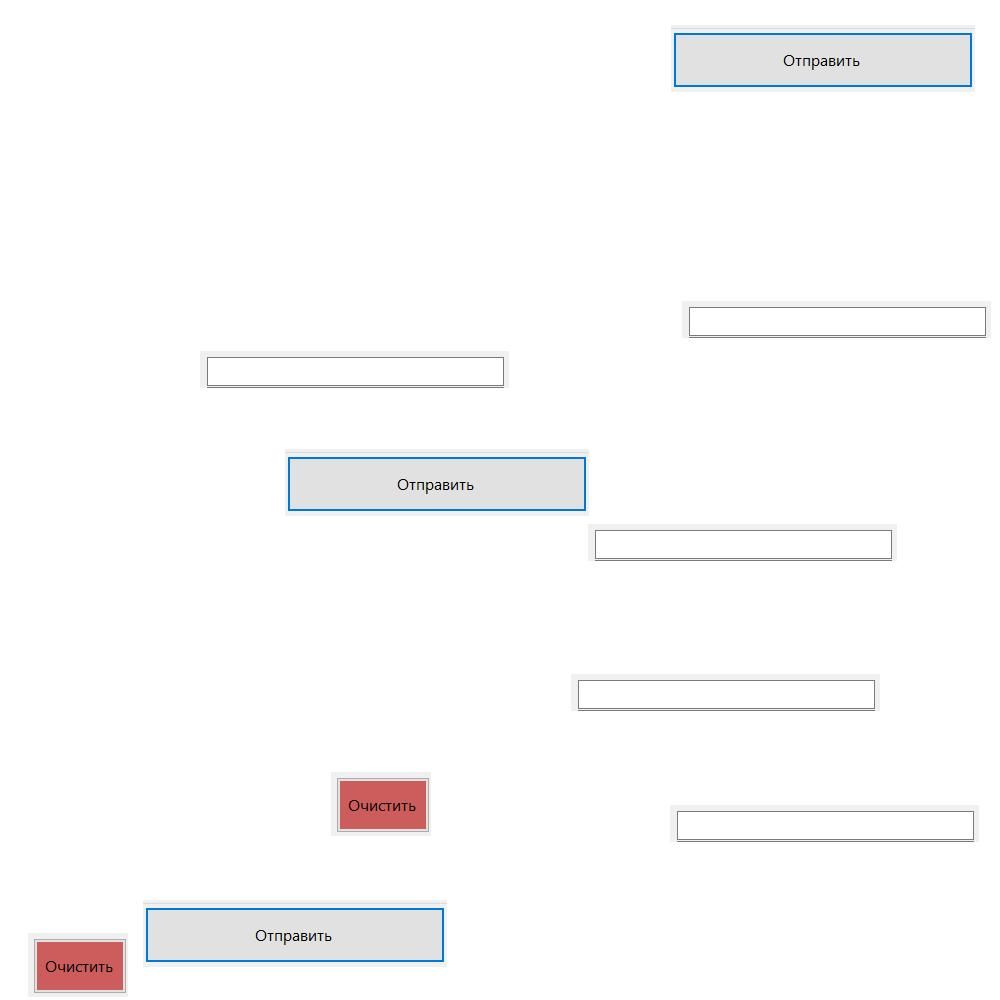Button: (285, 449, 589, 516), (143, 900, 447, 967), (671, 25, 975, 92), (331, 772, 431, 836), (28, 933, 128, 997)
EditText-: (588, 524, 897, 561), (670, 805, 979, 842), (682, 301, 991, 338), (200, 351, 509, 388), (571, 674, 880, 711)
